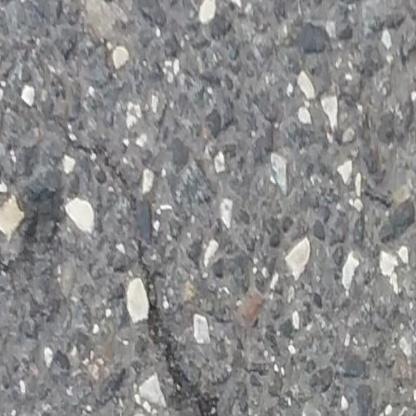Cracks: (81, 139, 226, 416), (0, 140, 5, 269)
